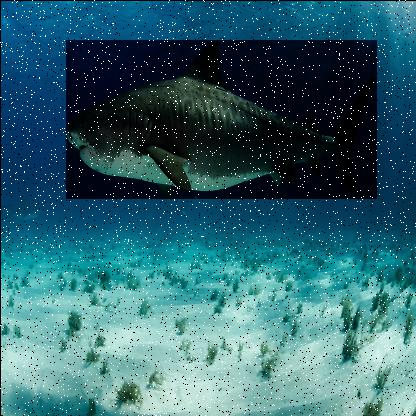tiger-shark: (66, 39, 378, 199)
